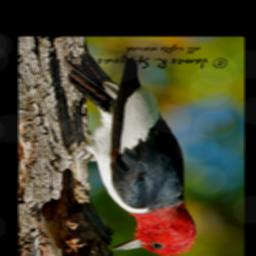Woodpecker: (60, 51, 196, 256)
